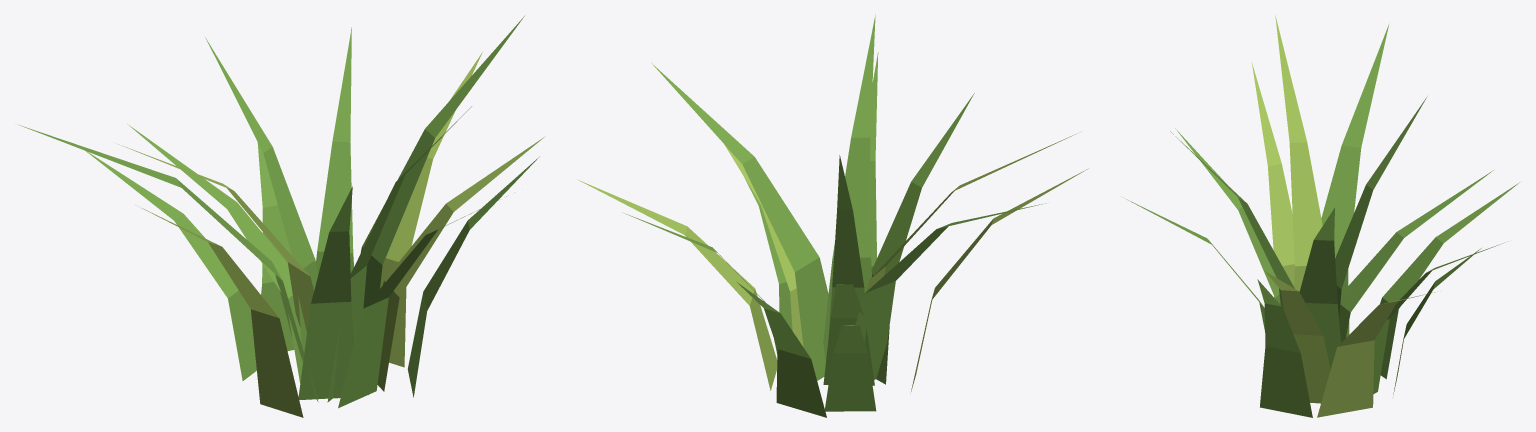
File: grass_tuft.glb
The picture shows the model from 3 angles, left to right: view 1: azimuth 30°, elevation 25°; view 2: azimuth 150°, elevation 25°; view 3: azimuth 270°, elevation 25°; orthographic projection. The views are drawn at different scales.
Parts seen in each view (by area): view 1: grass_tuft_mesh; view 2: grass_tuft_mesh; view 3: grass_tuft_mesh.
Boxes of the visible parts, <box> form: grass_tuft_mesh: <box>18,16,544,417</box>; grass_tuft_mesh: <box>577,14,1088,417</box>; grass_tuft_mesh: <box>1122,15,1519,417</box>.
Bounding box in the file's own units: 0.4335 × 0.2749 × 0.3557.
